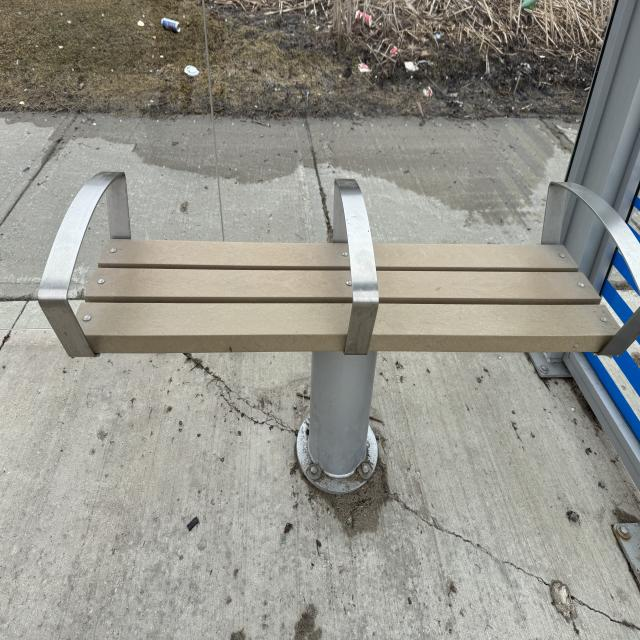Bench: (37, 156, 638, 489)
